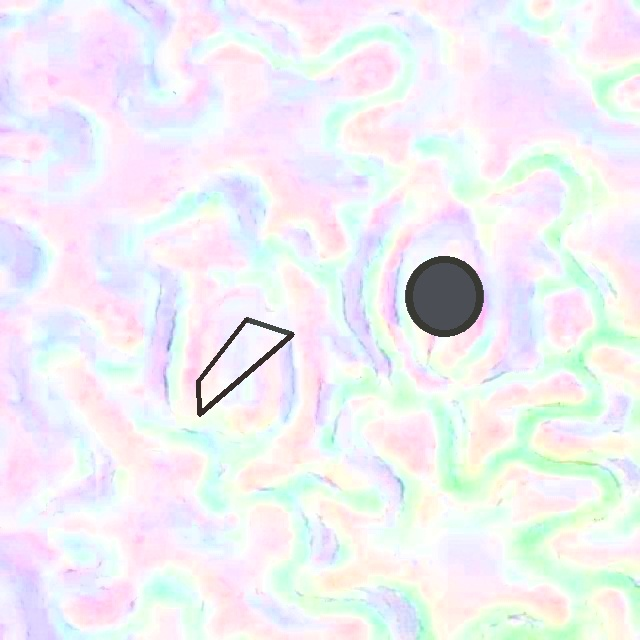close: (196, 317, 294, 416)
open: (405, 256, 483, 337)
